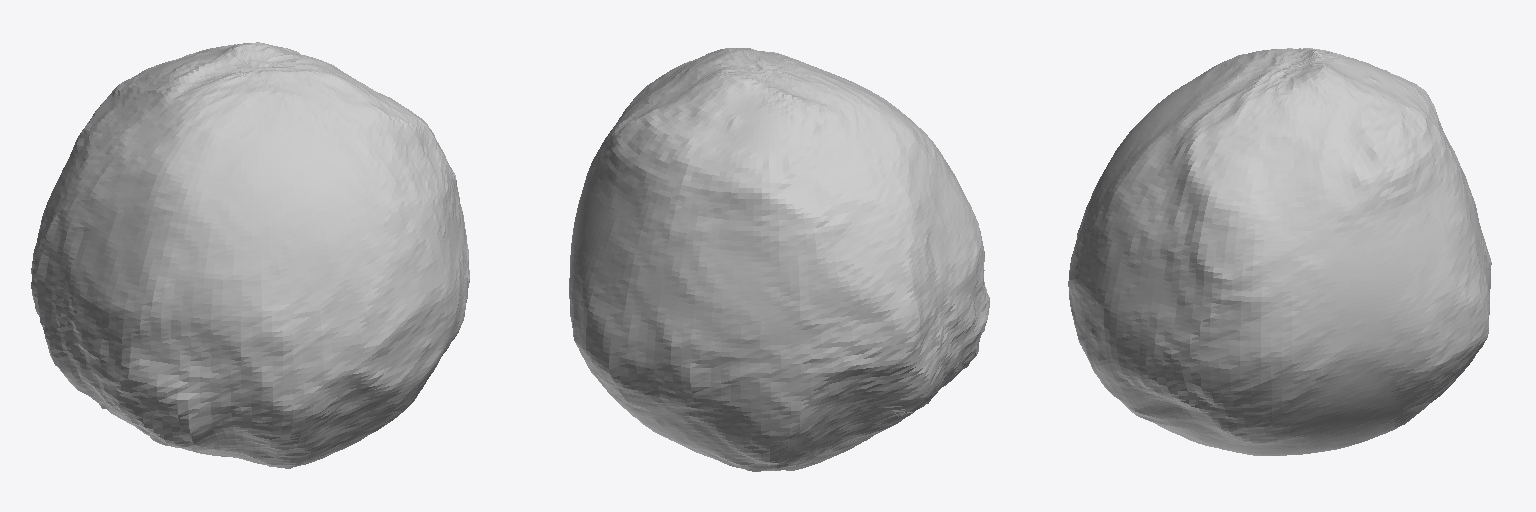
The model's file is boulder3.obj.
3 views of the same model, side by side, from view 1: azimuth 30°, elevation 25°; view 2: azimuth 150°, elevation 25°; view 3: azimuth 270°, elevation 25° (orthographic).
Visible parts, largest first — view 1: Landscape; view 2: Landscape; view 3: Landscape.
Boxes of the visible parts, x1,y1,x2,y2 form: Landscape: [31, 42, 469, 468]; Landscape: [569, 48, 989, 471]; Landscape: [1068, 48, 1491, 455].
Bounding box in the file's own units: 2.21 × 2.19 × 2.18.